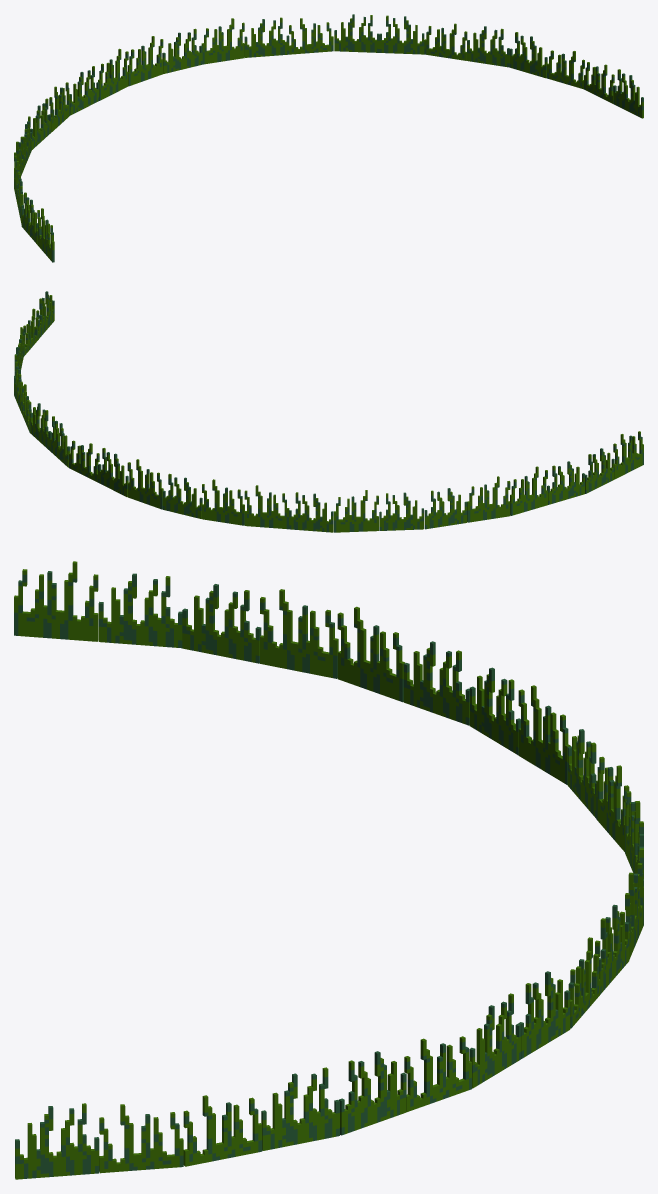
The model's file is Grass_Layer2.fbx.
3 views of the same model, one above another, from view 1: azimuth 30°, elevation 25°; view 2: azimuth 150°, elevation 25°; view 3: azimuth 270°, elevation 25° (orthographic). The views are drawn at different scales.
Parts seen in each view (by area): view 1: Grass4, Grass33, Grass10, Grass23, Grass5, Grass18, Grass2, Grass34, Grass11, Grass32, Grass39, Grass12 (+7 smaller); view 2: Grass31, Grass19, Grass11, Grass5, Grass13, Grass30, Grass36, Grass22, Grass2, Grass4, Grass37, Grass41 (+7 smaller); view 3: Grass41, Grass36, Grass40, Grass39, Grass34, Grass37, Grass31, Grass33, Grass30, Grass38, Grass35, Grass19 (+10 smaller).
Boxes of the visible parts, left/top/right/bottom form: Grass4: left=201, top=18, right=244, bottom=64; Grass33: left=467, top=26, right=509, bottom=67; Grass10: left=244, top=17, right=289, bottom=57; Grass23: left=379, top=15, right=424, bottom=54; Grass5: left=127, top=36, right=163, bottom=86; Grass18: left=334, top=14, right=379, bottom=52; Grass2: left=162, top=28, right=202, bottom=73; Grass34: left=509, top=32, right=547, bottom=78; Grass11: left=98, top=48, right=128, bottom=100; Grass32: left=424, top=23, right=467, bottom=60; Grass39: left=613, top=69, right=643, bottom=118; Grass12: left=289, top=18, right=333, bottom=54; Grass31: left=467, top=476, right=510, bottom=522; Grass19: left=334, top=490, right=378, bottom=532; Grass11: left=244, top=485, right=289, bottom=529; Grass5: left=202, top=479, right=244, bottom=525; Grass13: left=289, top=492, right=333, bottom=532; Grass30: left=424, top=488, right=467, bottom=529; Grass36: left=510, top=466, right=547, bottom=515; Grass22: left=379, top=492, right=423, bottom=530; Grass2: left=162, top=473, right=202, bottom=518; Grass4: left=127, top=459, right=163, bottom=509; Grass37: left=547, top=461, right=584, bottom=504; Grass41: left=613, top=431, right=643, bottom=479; Grass41: left=14, top=561, right=98, bottom=641; Grass36: left=260, top=589, right=338, bottom=678; Grass40: left=98, top=573, right=182, bottom=648; Grass39: left=15, top=1103, right=99, bottom=1179; Grass34: left=261, top=1067, right=339, bottom=1150; Grass37: left=182, top=584, right=261, bottom=663; Grass31: left=337, top=606, right=405, bottom=702; Grass33: left=339, top=1051, right=406, bottom=1135; Grass30: left=403, top=641, right=469, bottom=725; Grass38: left=99, top=1104, right=183, bottom=1173; Grass35: left=183, top=1095, right=262, bottom=1166; Grass19: left=518, top=685, right=570, bottom=784.
Size of the model in its own units: 16.49 by 1.08 by 8.04.
